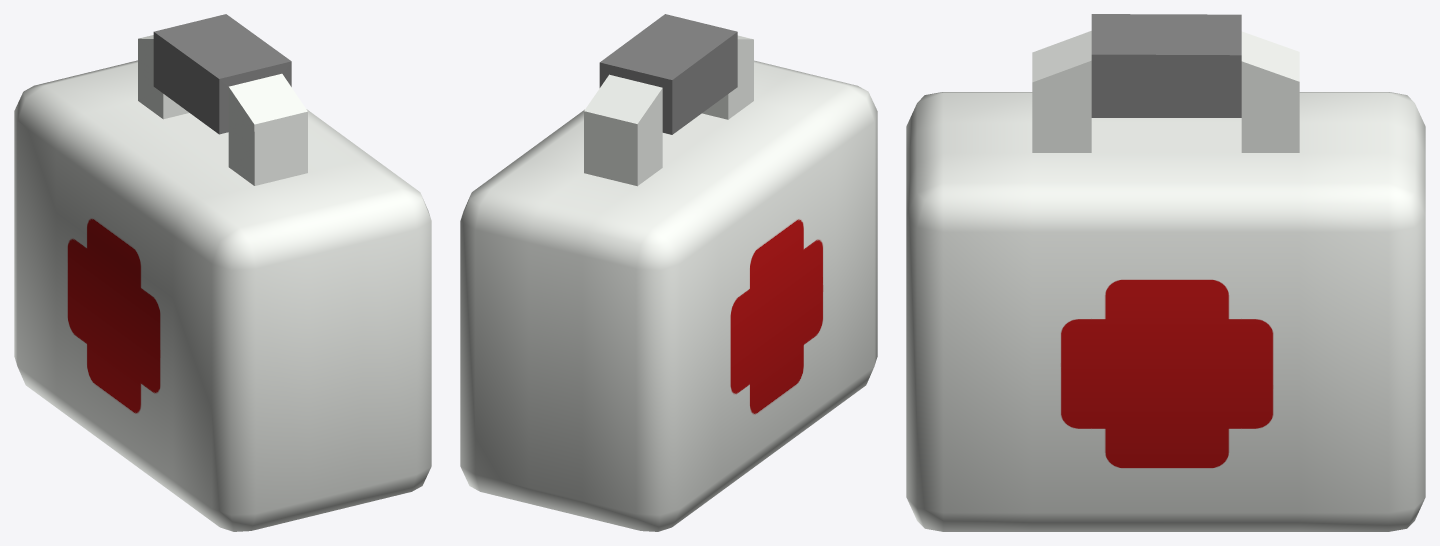
File: botiquin.FBX
3 renders of one model, left to right at view 1: azimuth 30°, elevation 25°; view 2: azimuth 150°, elevation 25°; view 3: azimuth 270°, elevation 25°, orthographic. The views are drawn at different scales.
Visible parts, largest first — view 1: ChamferBox001; view 2: ChamferBox001; view 3: ChamferBox001.
Boxes of the visible parts, x1=… form: ChamferBox001: x1=14, y1=14, x2=431, y2=531; ChamferBox001: x1=460, y1=14, x2=877, y2=531; ChamferBox001: x1=906, y1=14, x2=1425, y2=531.
Bounding box in the file's own units: 43.56 × 75.65 × 78.87.
